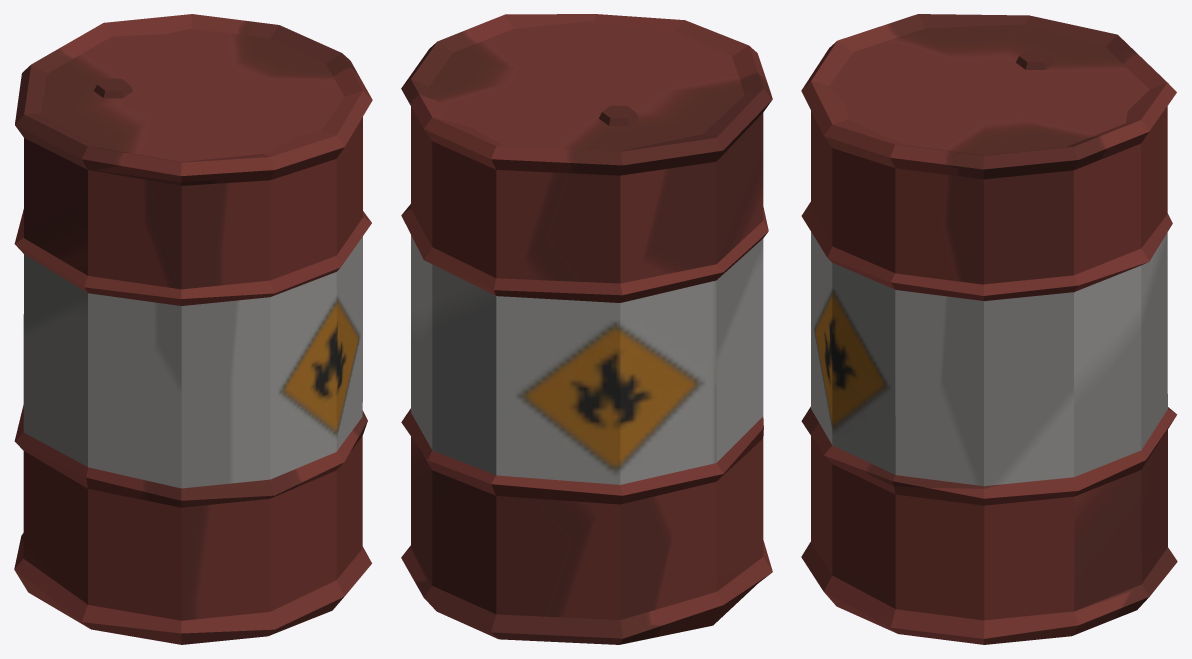
Rendered from apoc_SM_Prop_Barrel_Warning_01.gltf.
The picture shows the model from 3 angles, left to right: view 1: azimuth 30°, elevation 25°; view 2: azimuth 150°, elevation 25°; view 3: azimuth 270°, elevation 25°; orthographic projection. The views are drawn at different scales.
Parts seen in each view (by area): view 1: SM_Prop_Barrel_Warning_01; view 2: SM_Prop_Barrel_Warning_01; view 3: SM_Prop_Barrel_Warning_01.
Part boxes in pixels (<box>): SM_Prop_Barrel_Warning_01: <box>14,14,372,644</box>; SM_Prop_Barrel_Warning_01: <box>401,14,772,644</box>; SM_Prop_Barrel_Warning_01: <box>801,14,1177,644</box>.
Size of the model in its own units: 0.7052 by 1.05 by 0.7261.
1 material, 1 textured.
